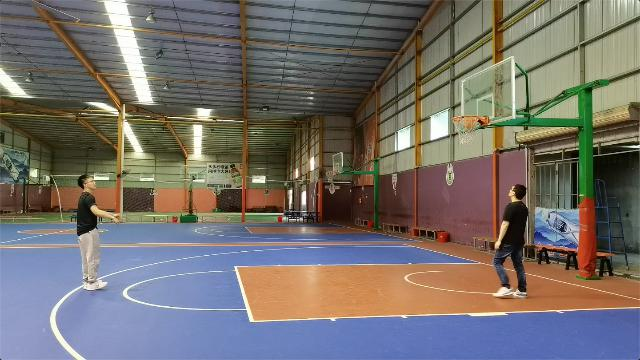basket: (451, 114, 479, 143)
goal: (462, 117, 473, 127)
